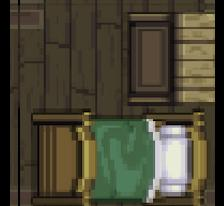Hide: (28, 110, 210, 206)
Obstacle: (125, 13, 215, 106)
